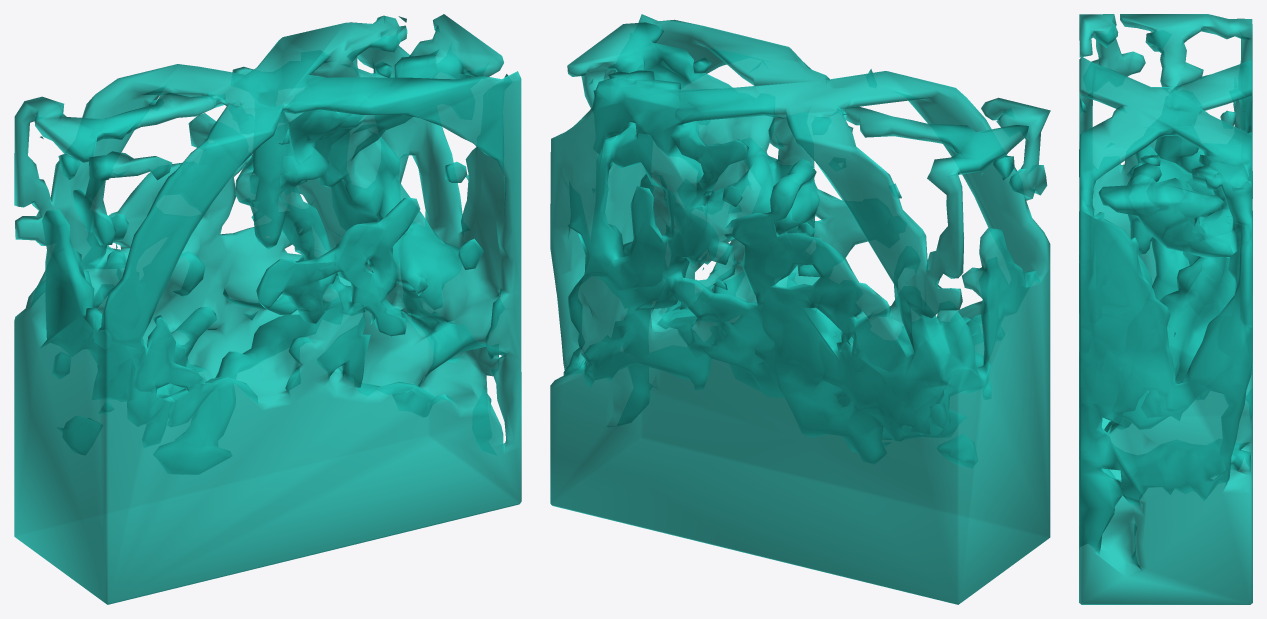
3 renders of one model, left to right at view 1: azimuth 30°, elevation 25°; view 2: azimuth 150°, elevation 25°; view 3: azimuth 270°, elevation 25°, orthographic. The views are drawn at different scales.
Visible parts, largest first — view 1: Liquid_Domain; view 2: Liquid_Domain; view 3: Liquid_Domain.
Part boxes in pixels (x1=…): Liquid_Domain: x1=14, y1=14, x2=521, y2=604; Liquid_Domain: x1=550, y1=14, x2=1050, y2=604; Liquid_Domain: x1=1079, y1=14, x2=1252, y2=604.
Size of the model in its own units: 885 by 884 by 344.
